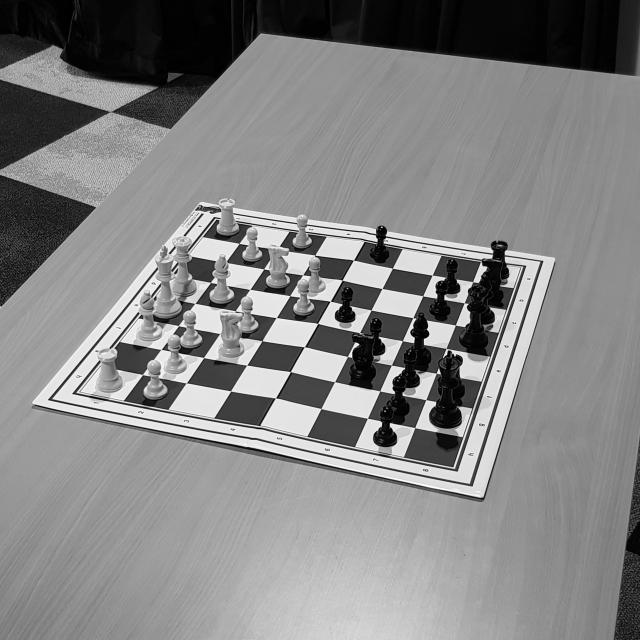chessboard: (72, 215, 525, 471)
